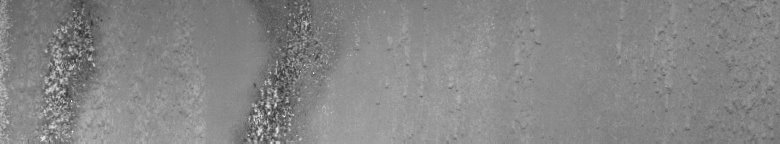hc: (248, 6, 327, 136)
